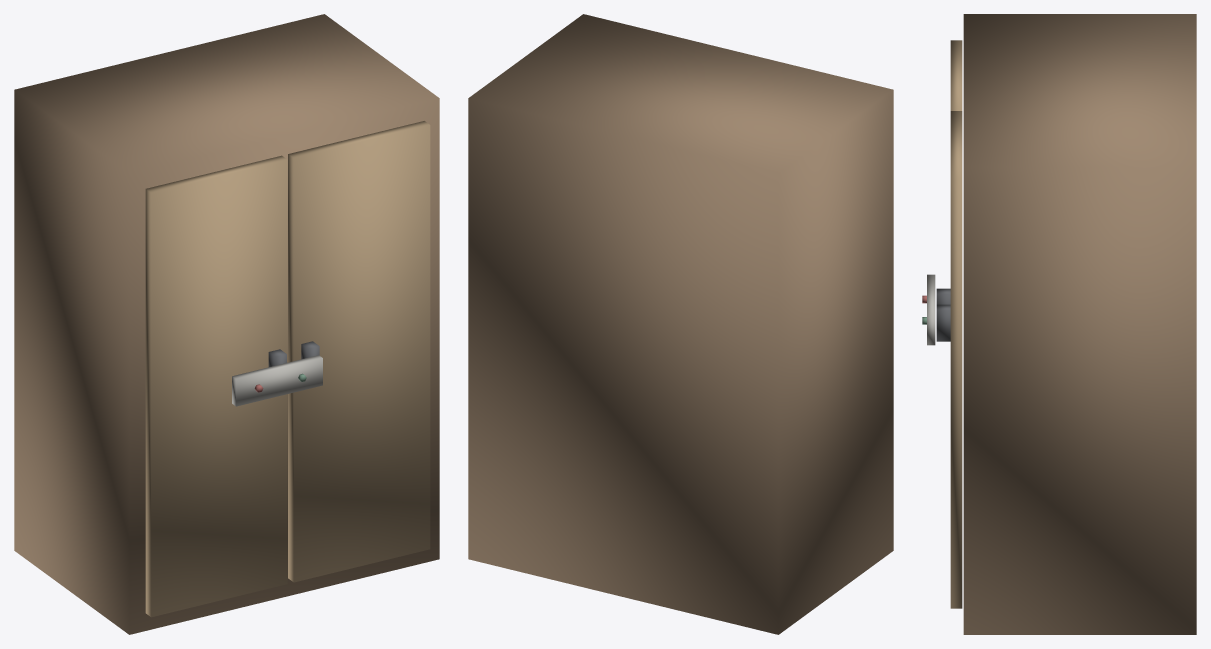
File: tv_stand__deep.glb
3 renders of one model, left to right at view 1: azimuth 30°, elevation 25°; view 2: azimuth 150°, elevation 25°; view 3: azimuth 270°, elevation 25°, orthographic.
Parts seen in each view (by area): view 1: world; view 2: world; view 3: world.
Part boxes in pixels (x1=…): world: x1=14, y1=14, x2=439, y2=634; world: x1=468, y1=14, x2=893, y2=634; world: x1=922, y1=14, x2=1196, y2=634.
Bounding box in the file's own units: 0.95 × 1.35 × 0.718.
